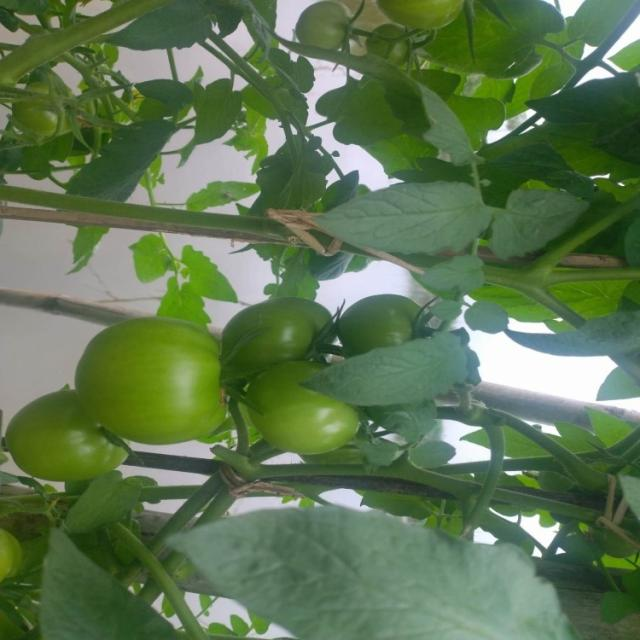tomato: (76, 314, 244, 447), (10, 386, 121, 482), (249, 377, 357, 464), (223, 287, 332, 371), (341, 283, 449, 354), (289, 3, 361, 52), (13, 84, 80, 134), (377, 1, 477, 32), (363, 27, 424, 74), (1, 524, 21, 590)
